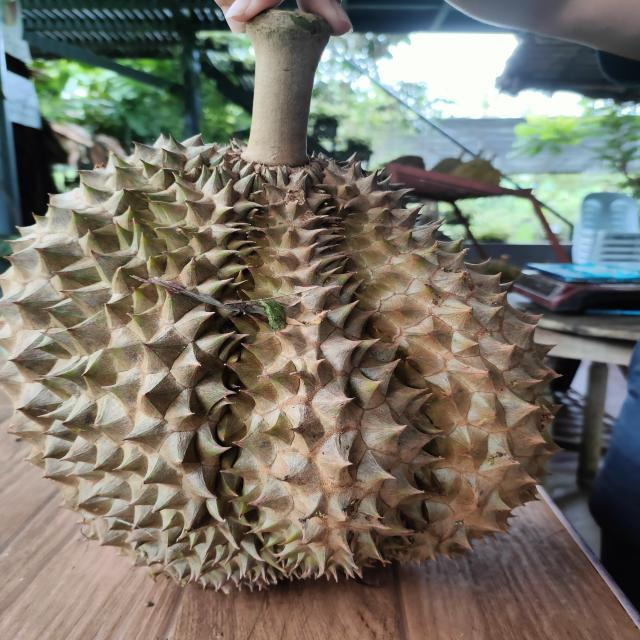mature: (0, 130, 563, 594)
